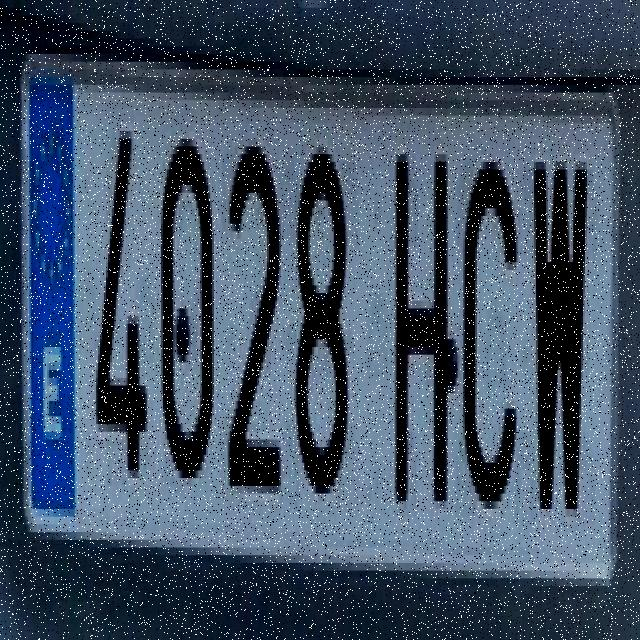licenseplate: (11, 8, 638, 619)
